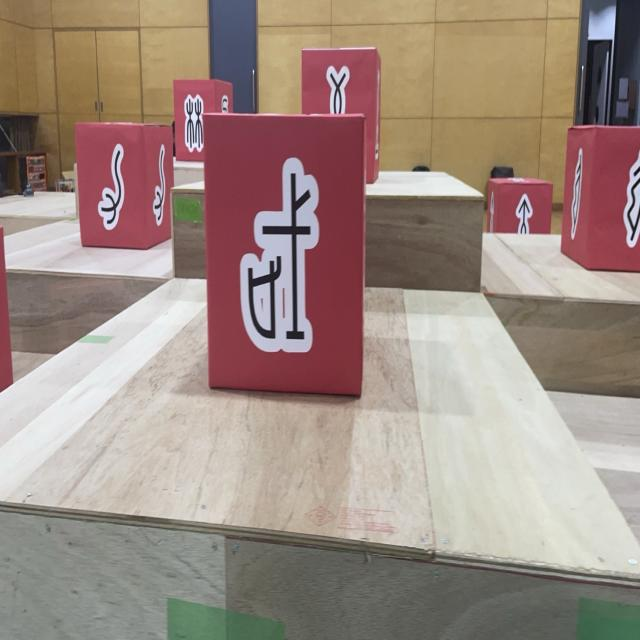11: (623, 144, 640, 249), (569, 148, 584, 241)
12: (516, 194, 532, 234), (488, 188, 495, 234)
13: (98, 143, 126, 232), (154, 142, 166, 229)
2: (183, 94, 204, 154), (220, 96, 230, 112)
5: (239, 157, 320, 353)
7: (327, 64, 349, 114)
fighter: (203, 114, 367, 396), (75, 123, 174, 250), (560, 124, 640, 274), (304, 49, 384, 183), (174, 78, 232, 162), (487, 178, 553, 233), (0, 225, 13, 392)
